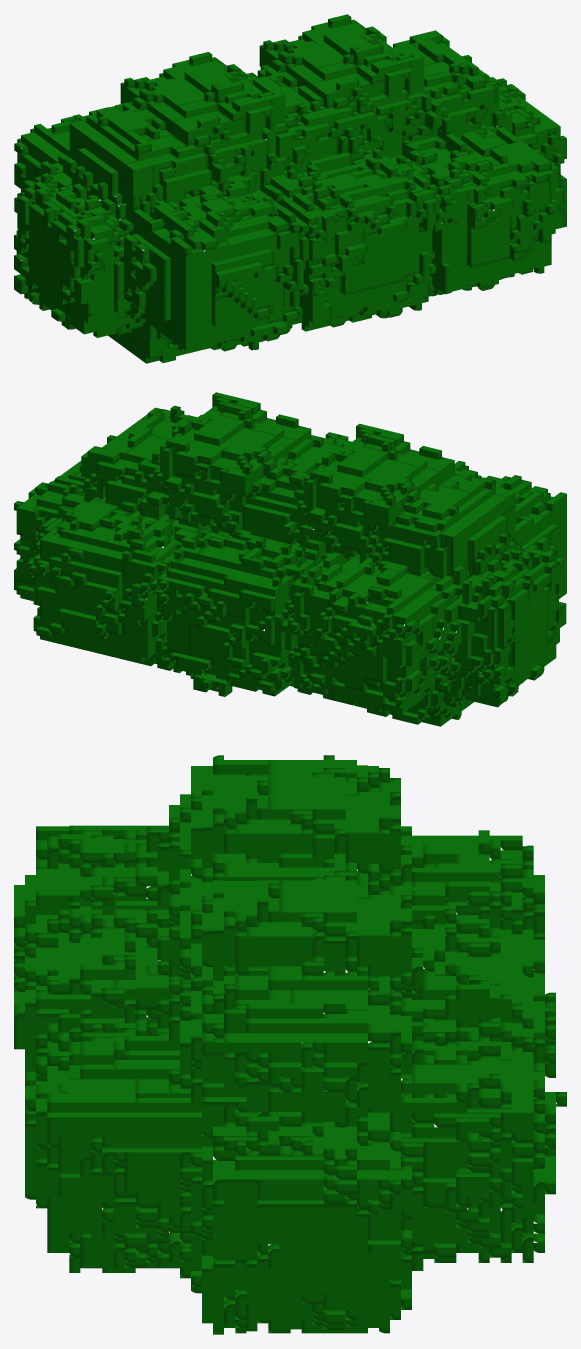
Rendered from Nube.dae.
3 views of the same model, one above another, from view 1: azimuth 30°, elevation 25°; view 2: azimuth 150°, elevation 25°; view 3: azimuth 270°, elevation 25° (orthographic). The views are drawn at different scales.
Visible parts, largest first — view 1: Node-local; view 2: Node-local; view 3: Node-local.
Boxes of the visible parts, left/top/right/bottom form: Node-local: left=14, top=14, right=566, bottom=363; Node-local: left=14, top=392, right=566, bottom=726; Node-local: left=14, top=755, right=566, bottom=1334.
Size of the model in its own units: 77 by 37 by 50.
1 material, 1 textured.
